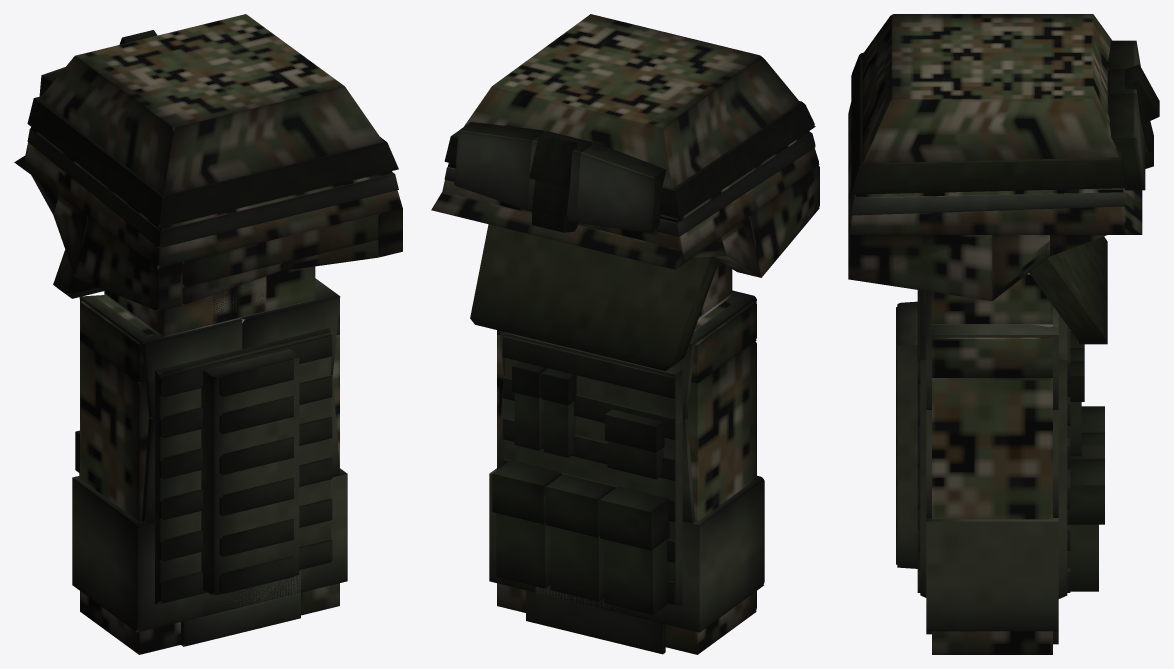
File: marineforestmedical.obj
The picture shows the model from 3 angles, left to right: view 1: azimuth 30°, elevation 25°; view 2: azimuth 150°, elevation 25°; view 3: azimuth 270°, elevation 25°; orthographic projection.
Visible parts, largest first — view 1: headModel1, bodyModel0, bodyModel31, bodyModel38, headModel15, bodyModel16, headModel0, headModel11, headModel4, headModel8, bodyModel2, rightArmModel0 (+22 smaller); view 2: headModel1, headModel12, bodyModel38, bodyModel0, bodyModel4, headModel17, headModel16, headModel0, headModel15, headModel14, bodyModel11, bodyModel14 (+27 smaller); view 3: headModel1, bodyModel38, bodyModel0, headModel15, headModel0, headModel7, bodyModel31, headModel12, bodyModel40, headModel11, leftArmModel0, bodyModel3 (+16 smaller).
Boxes of the visible parts, box(x1,y1,x2,y2) form: headModel1: box(40, 14, 383, 194); bodyModel0: box(72, 468, 347, 632); bodyModel31: box(201, 349, 299, 595); bodyModel38: box(80, 334, 339, 654); headModel15: box(27, 96, 398, 227); bodyModel16: box(138, 328, 330, 604); headModel0: box(22, 127, 402, 267); headModel11: box(27, 128, 398, 248); headModel4: box(75, 216, 182, 311); headModel8: box(182, 214, 378, 287); bodyModel2: box(79, 295, 242, 418); rightArmModel0: box(104, 276, 266, 337); headModel1: box(457, 14, 798, 188); headModel12: box(470, 224, 719, 367); bodyModel38: box(497, 334, 756, 654); bodyModel0: box(489, 468, 764, 632); bodyModel4: box(504, 332, 682, 605); headModel17: box(576, 143, 666, 232); headModel16: box(454, 122, 543, 210); headModel0: box(442, 131, 819, 263); headModel15: box(444, 101, 815, 218); headModel14: box(431, 191, 683, 269); bodyModel11: box(526, 590, 665, 654); bodyModel14: box(604, 538, 668, 614); headModel1: box(862, 14, 1119, 163); bodyModel38: box(932, 378, 1052, 654); bodyModel0: box(926, 518, 1058, 631); headModel15: box(851, 52, 1124, 194); headModel0: box(848, 102, 1124, 234); headModel7: box(848, 235, 992, 300); bodyModel31: box(897, 301, 919, 568); headModel12: box(1029, 236, 1107, 341); bodyModel40: box(932, 326, 1052, 377); headModel11: box(851, 188, 1124, 215); leftArmModel0: box(932, 273, 1052, 326); bodyModel3: box(926, 291, 1058, 409).
Size of the model in its own units: 11 by 21.2 by 10.8.
